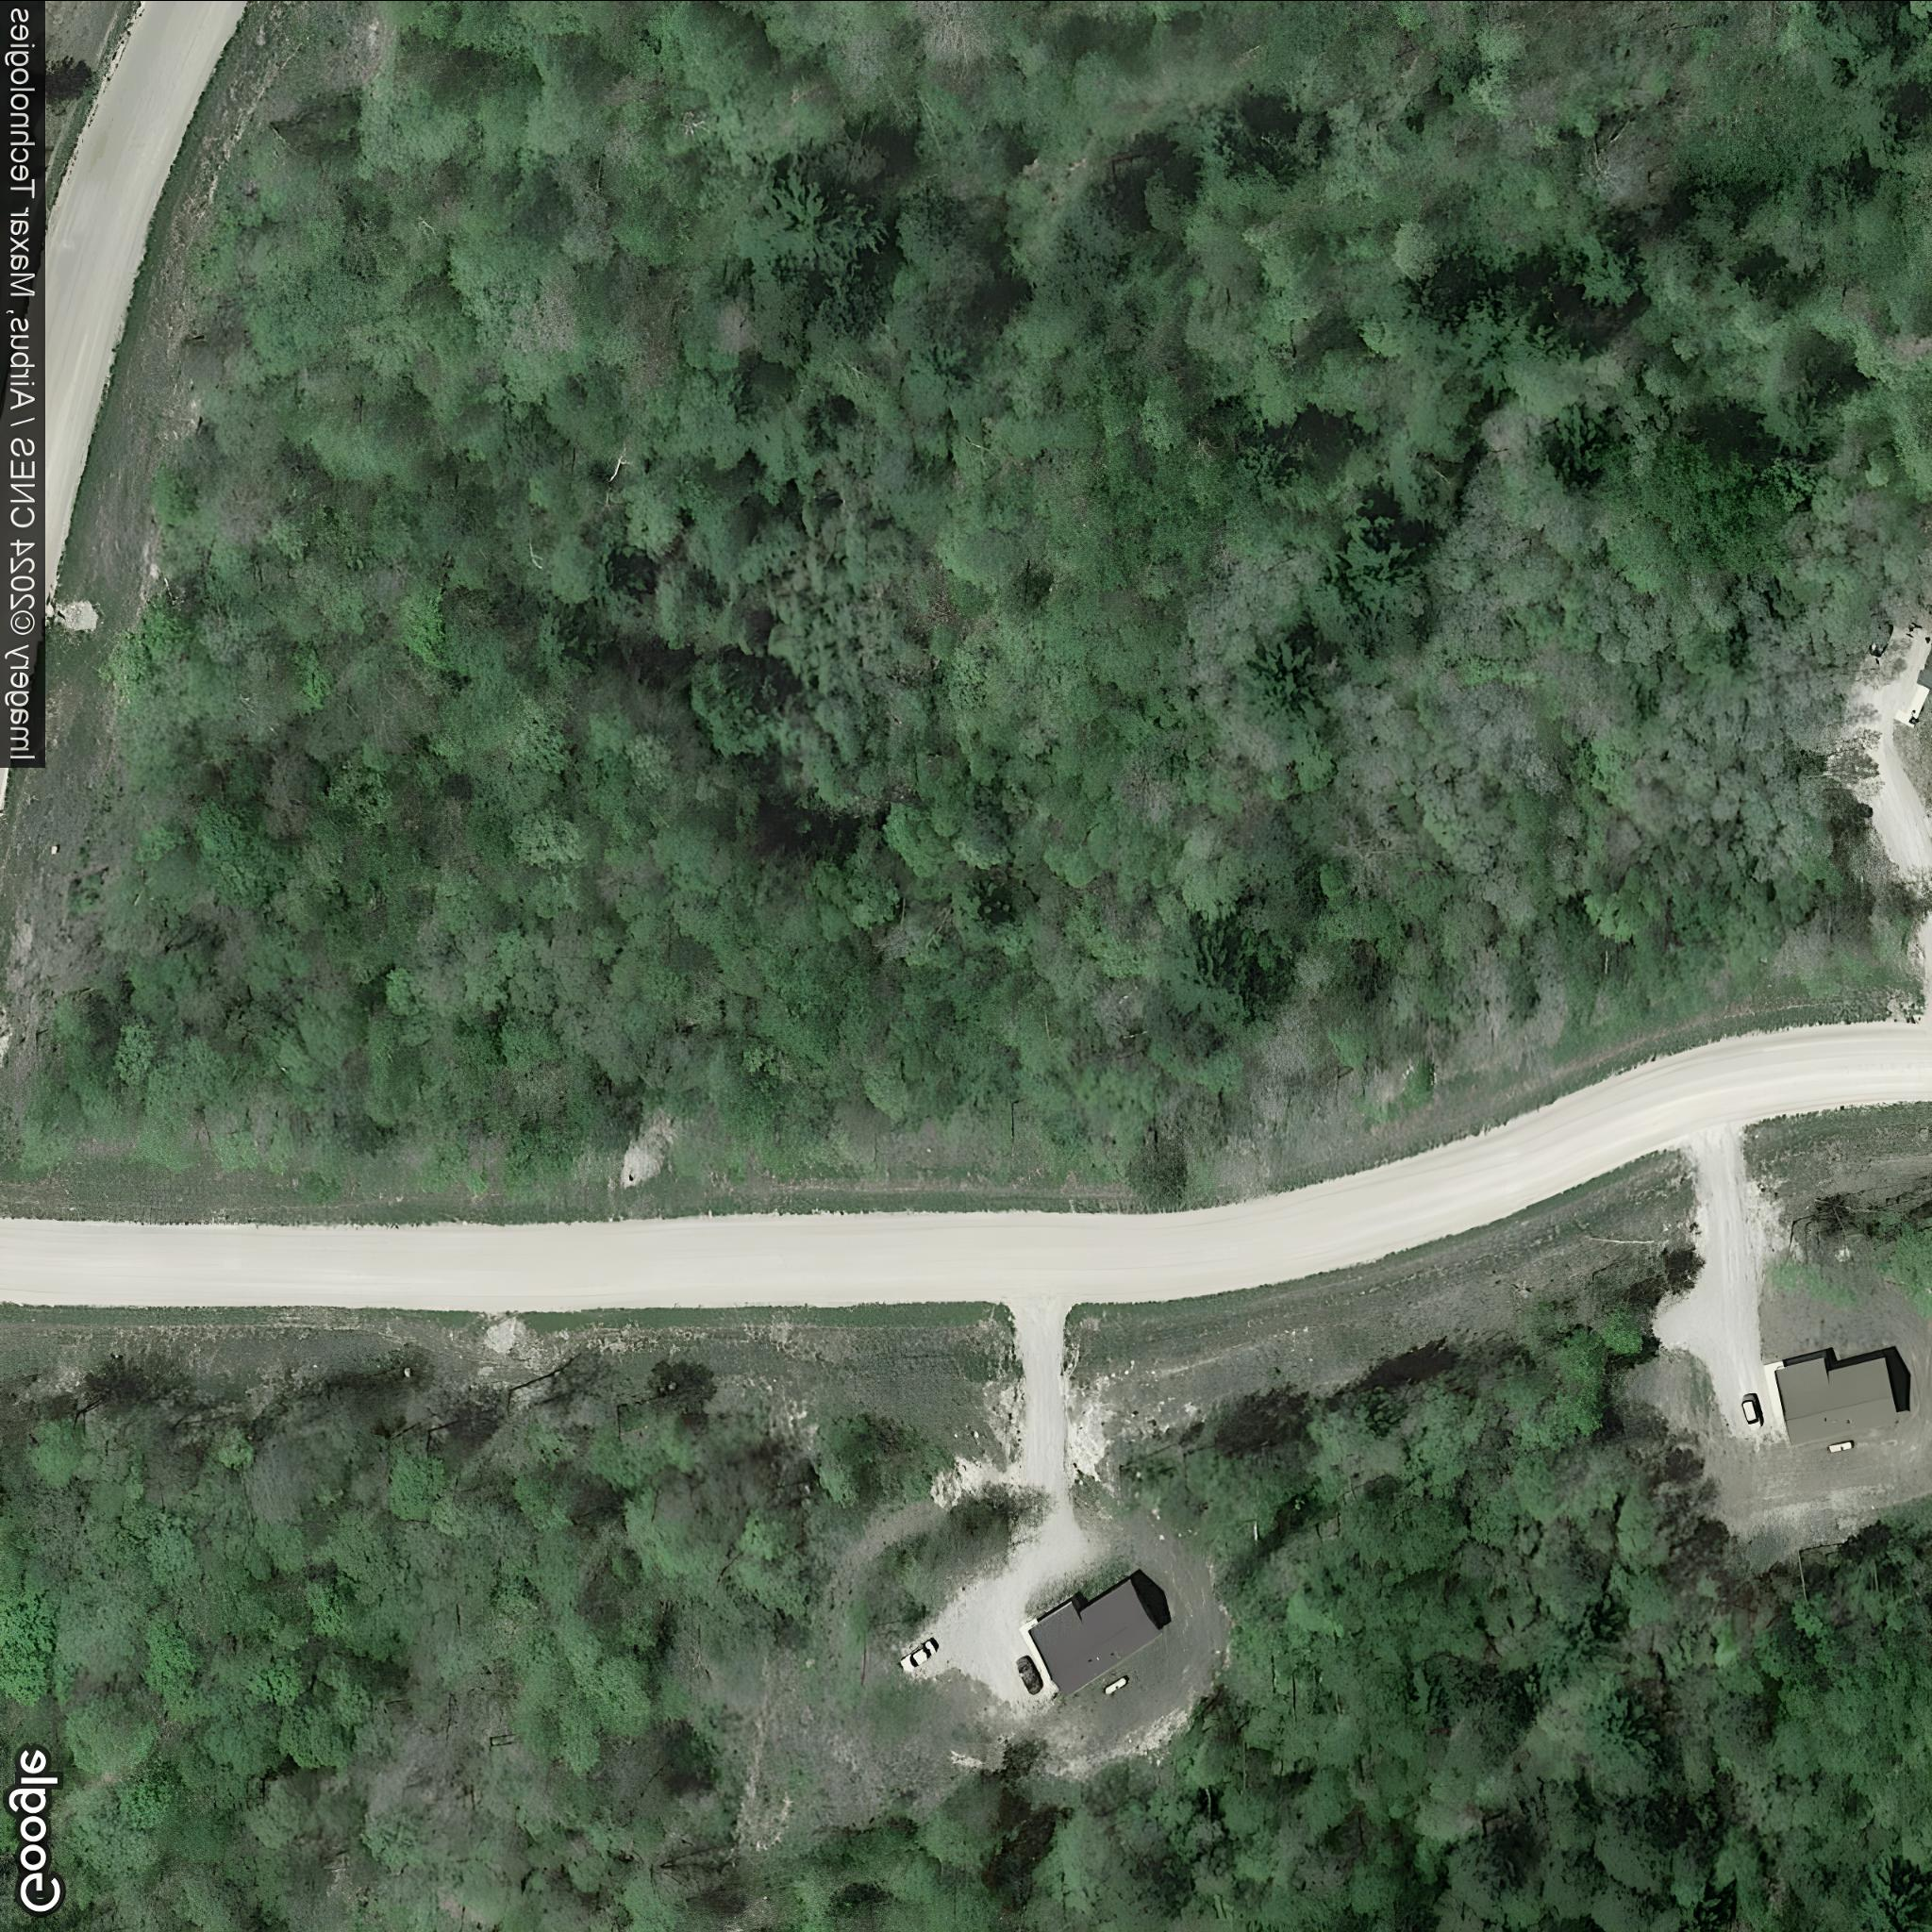House: (1026, 1576, 1166, 1697), (1773, 1353, 1900, 1449)
Propane: (1099, 1672, 1134, 1698), (1822, 1437, 1858, 1456)
